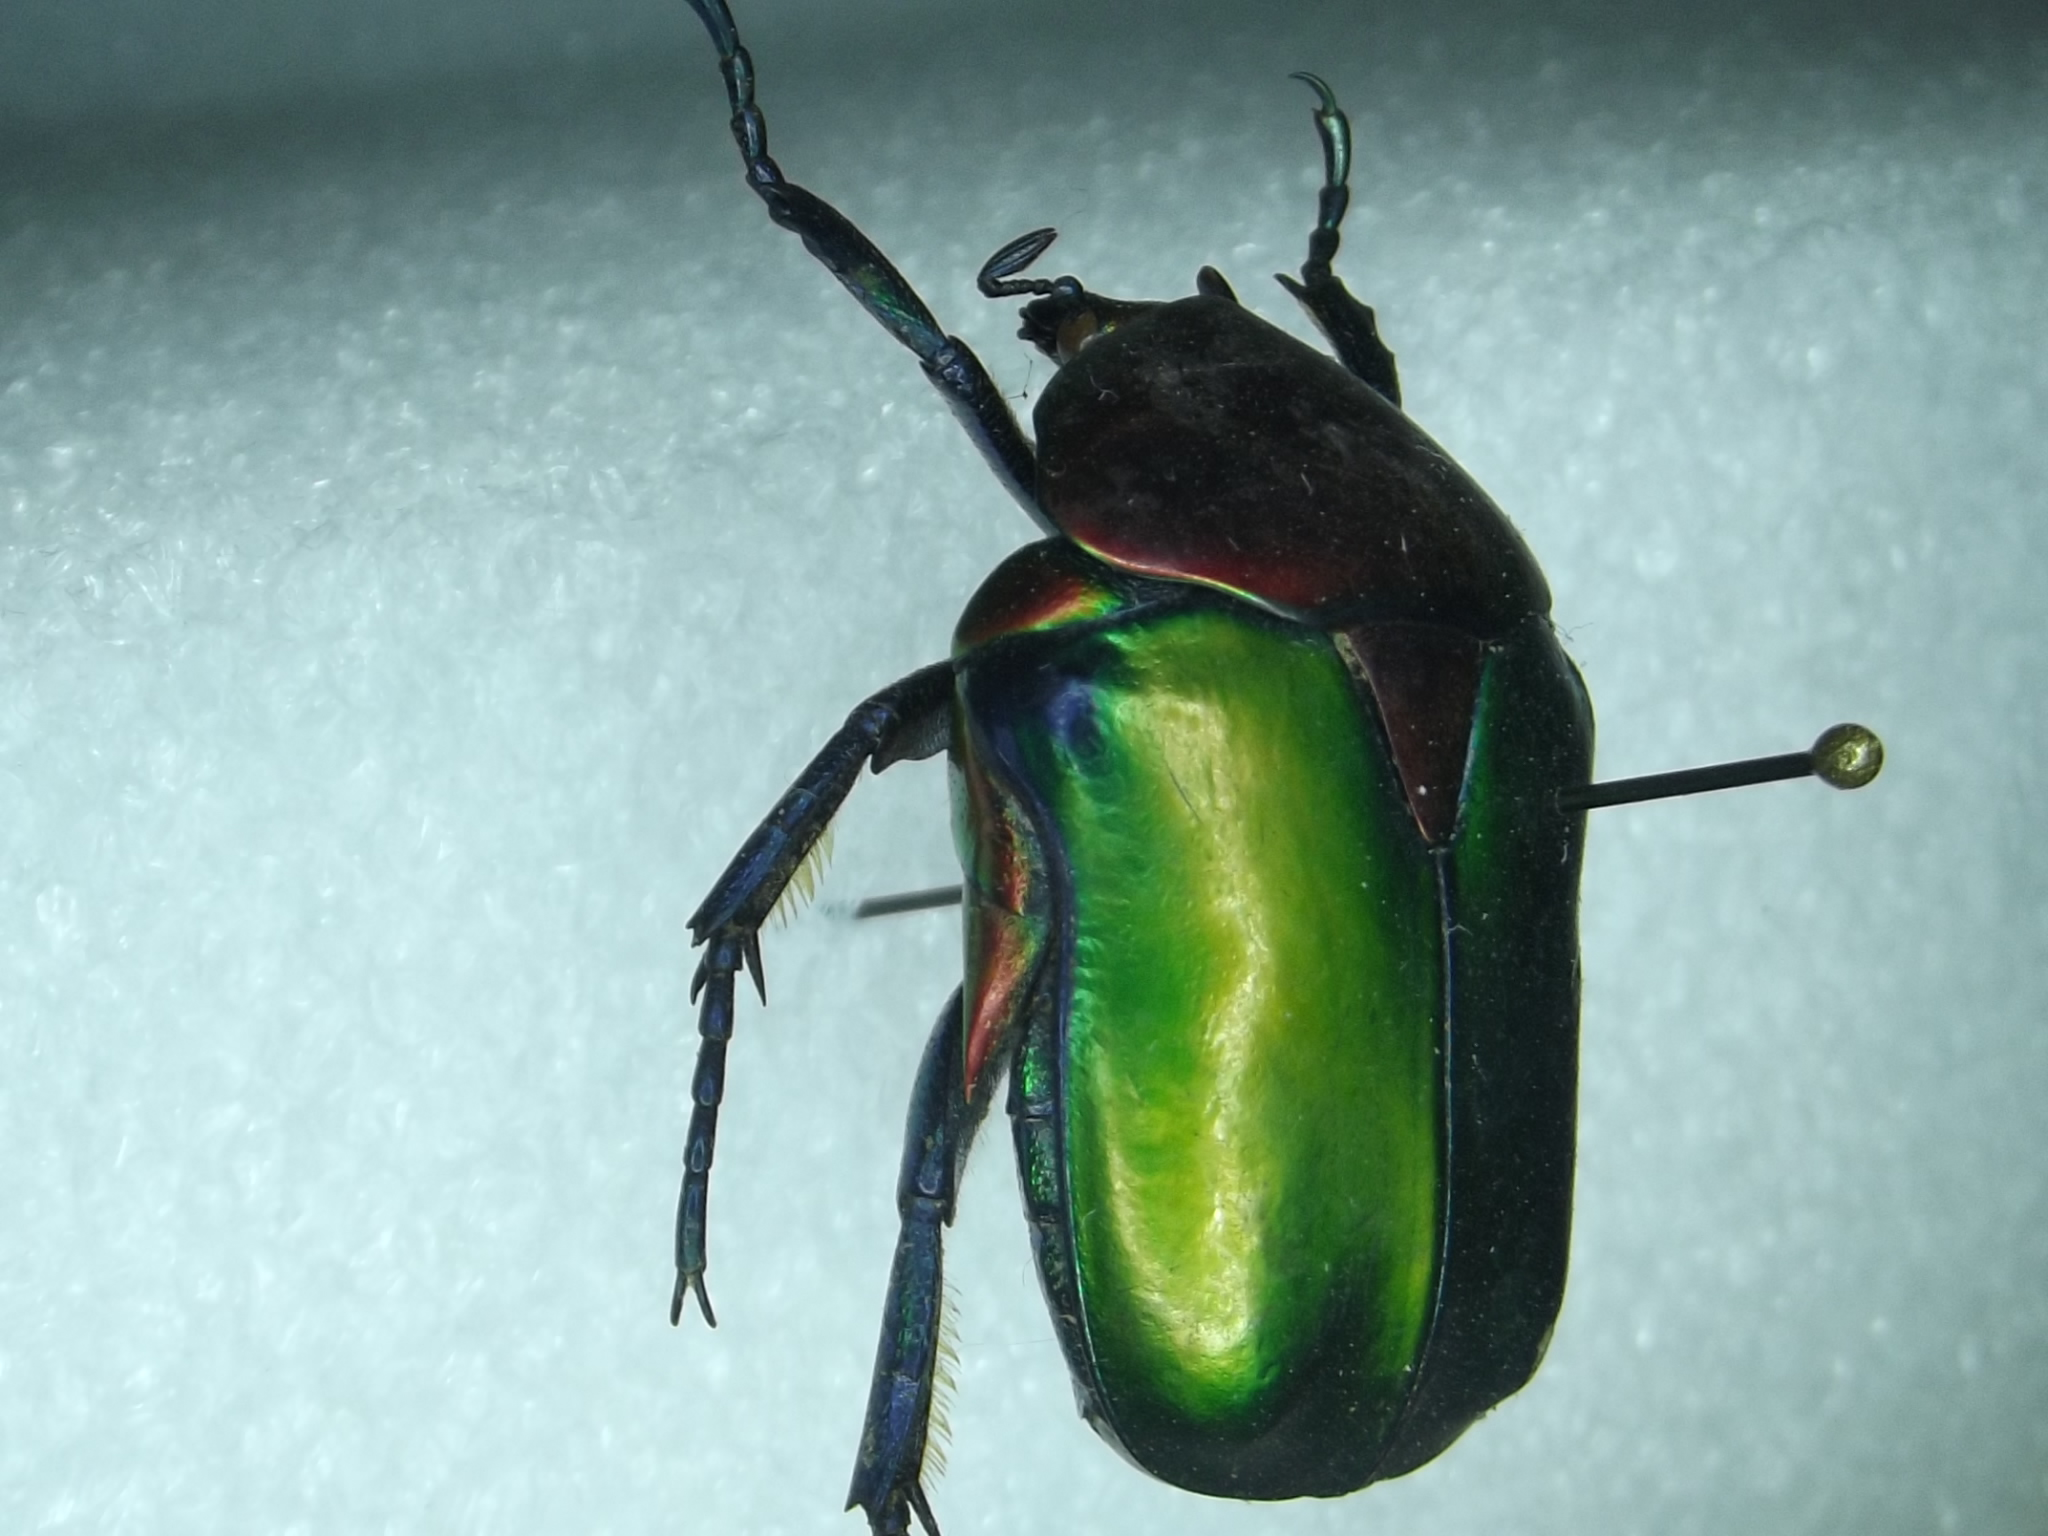Protaetia_speciosa_jousseliniw: (598, 8, 1629, 1526)
